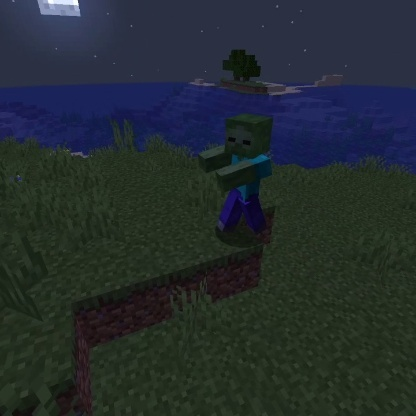zombie: (196, 111, 278, 239)
